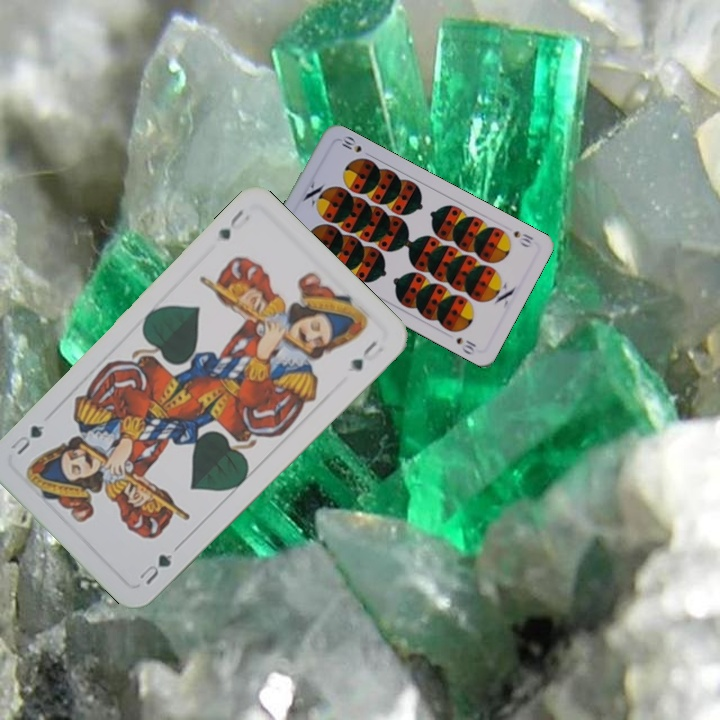GU: (135, 542, 182, 588), (213, 205, 250, 243)
S10: (510, 227, 536, 250)
